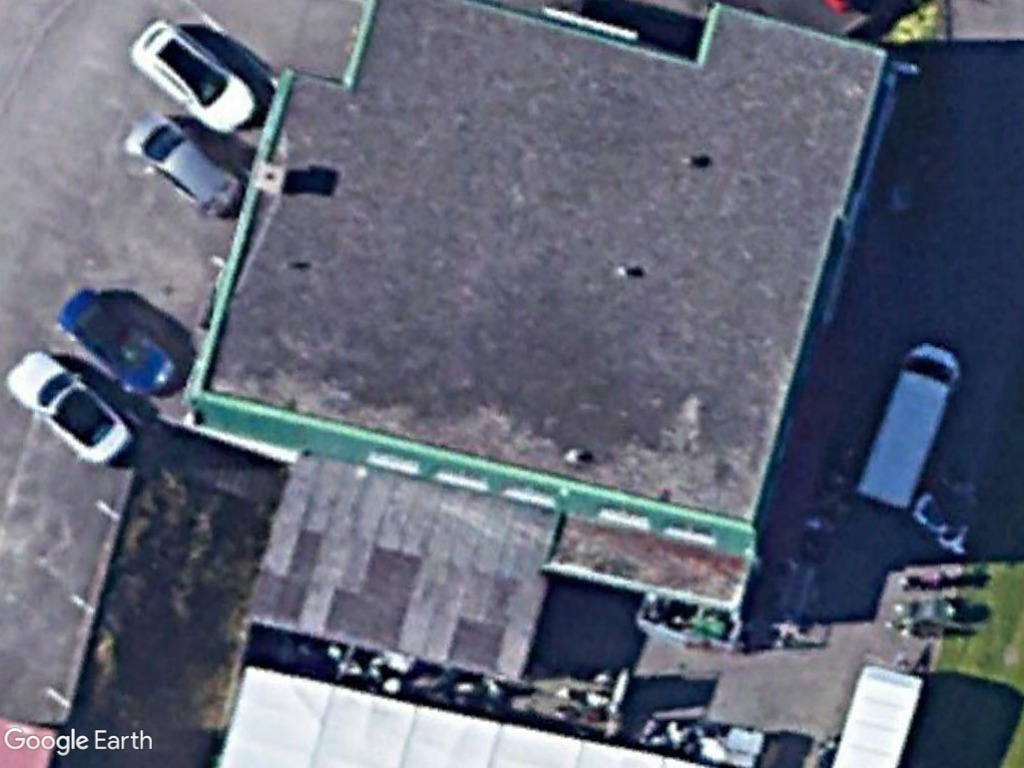car: (1, 343, 135, 468), (126, 15, 259, 137), (55, 283, 181, 396), (123, 111, 241, 217)
van: (850, 341, 967, 511)
